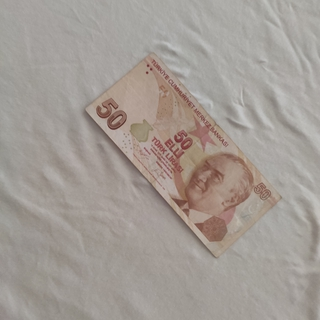50TLFront: (84, 53, 282, 258)
